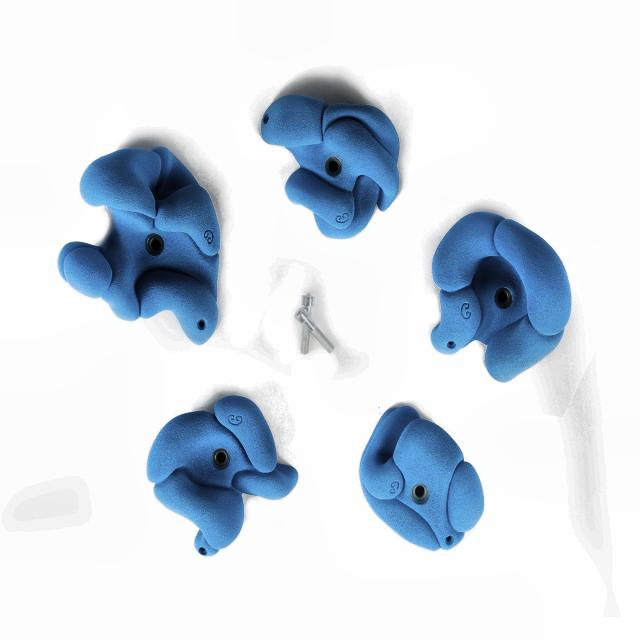Hold: (58, 148, 221, 348), (141, 394, 298, 560), (429, 206, 570, 384), (262, 92, 399, 240), (354, 405, 486, 553)
